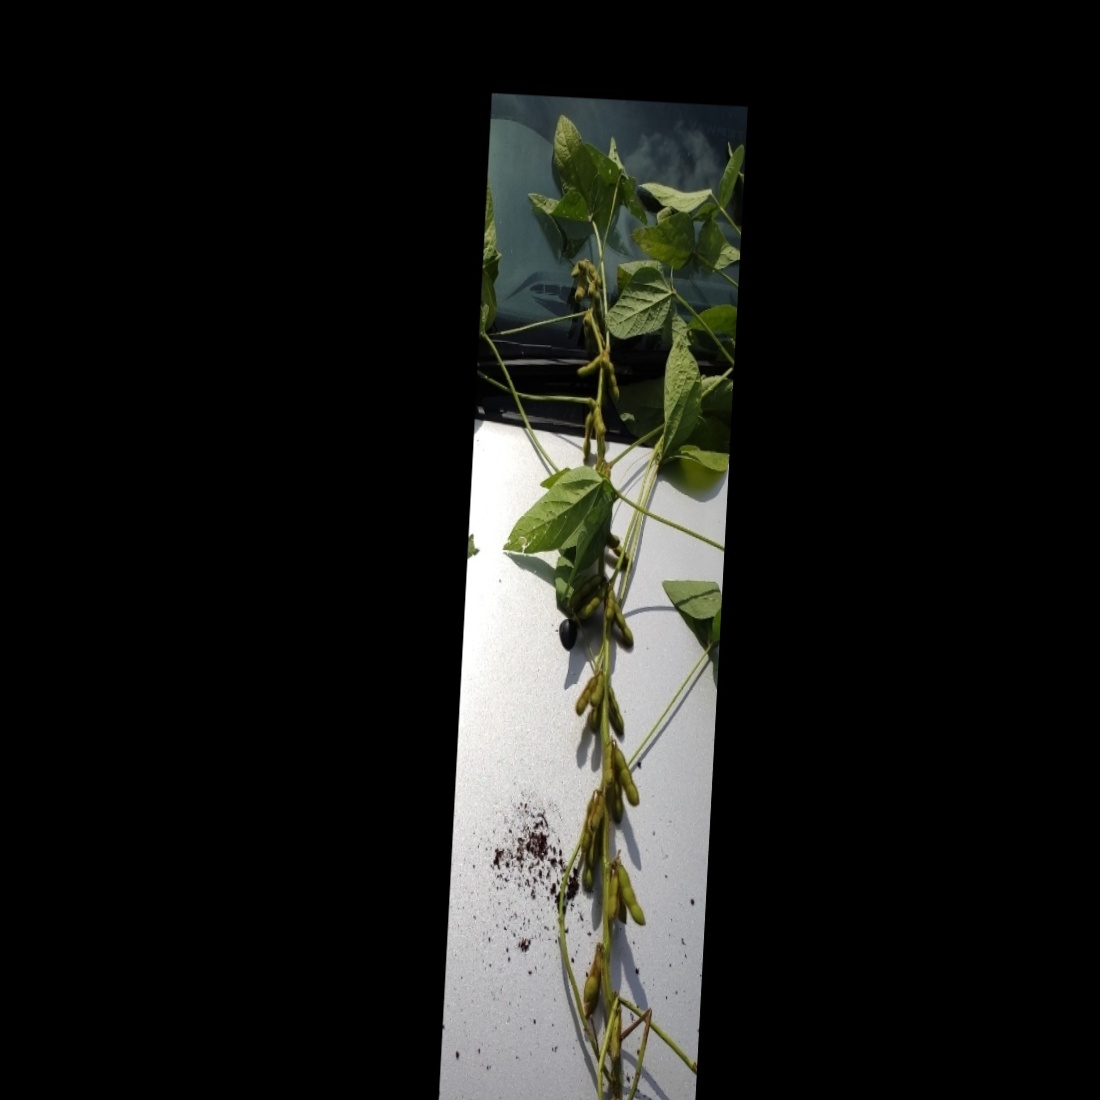pod: (605, 741, 643, 810), (613, 859, 651, 928), (571, 584, 609, 628), (566, 571, 606, 611), (580, 945, 605, 1007), (605, 685, 635, 737), (572, 670, 600, 718), (580, 825, 599, 896), (608, 599, 636, 645), (601, 355, 624, 407), (601, 731, 618, 793), (587, 786, 607, 836), (574, 348, 604, 379), (588, 398, 608, 441), (578, 412, 594, 465), (586, 671, 606, 713), (602, 578, 617, 625)
soy: (435, 169, 735, 1100)
